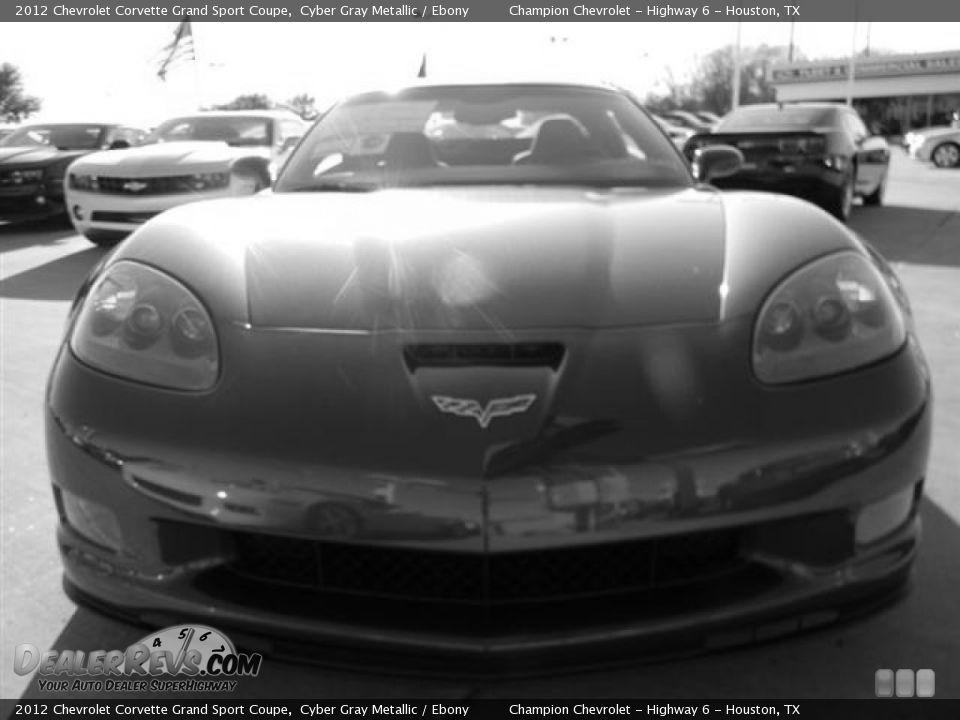car: (30, 71, 951, 689)
